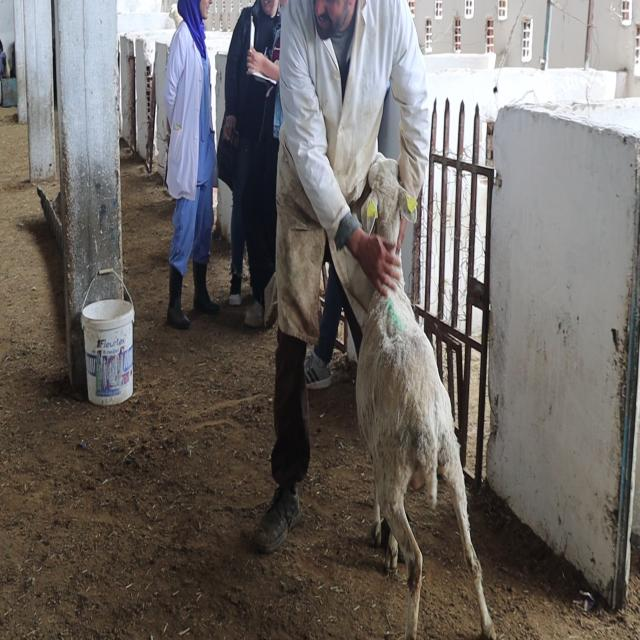Score_1: (356, 281, 496, 639)
